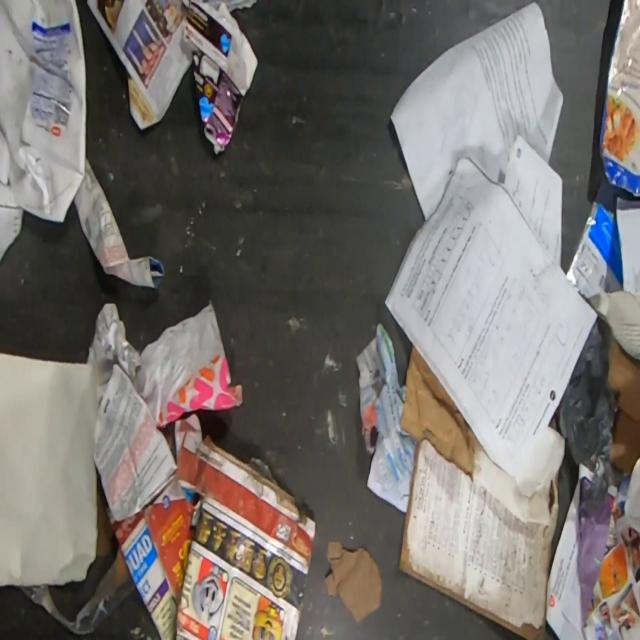cardboard: (93, 362, 318, 640), (398, 437, 559, 640), (398, 344, 565, 526), (566, 178, 632, 301), (608, 335, 640, 475)
soft_plastic: (549, 316, 616, 476), (19, 545, 135, 634), (598, 0, 640, 198)
